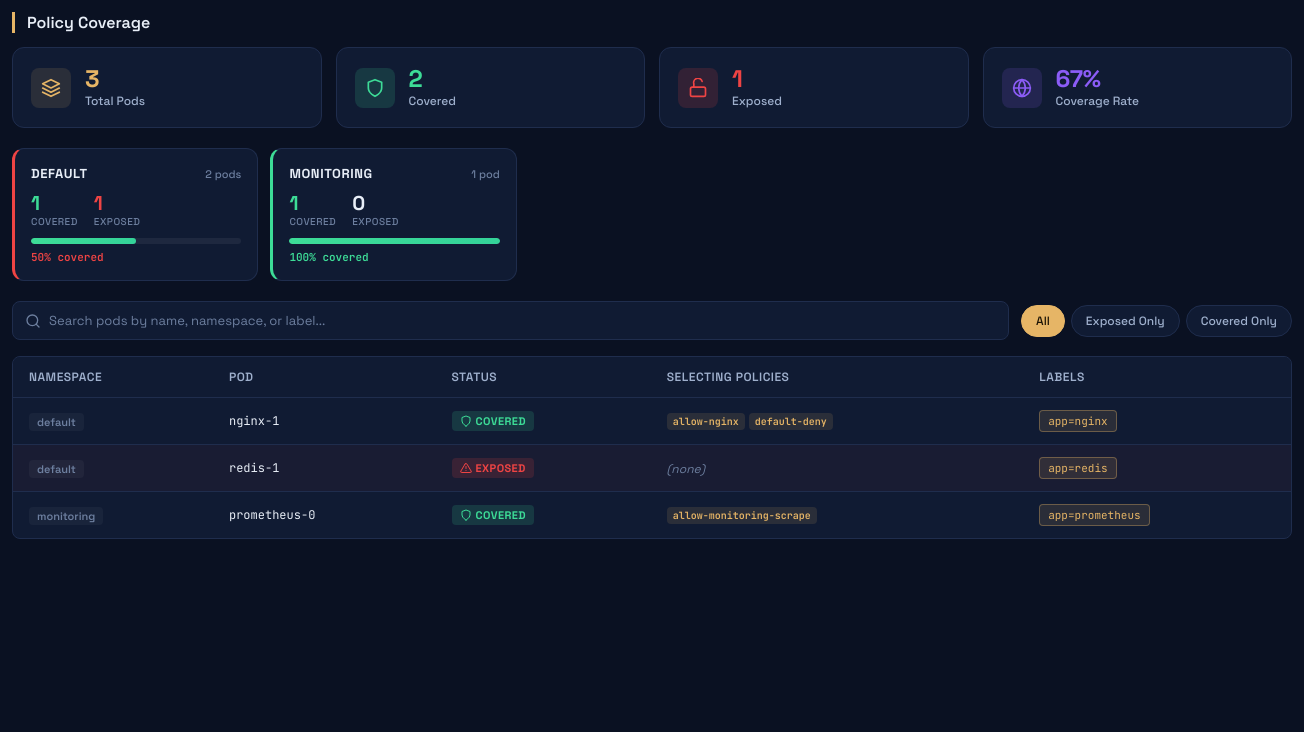
Test: PolicyCoveragePanel › filters to show covered pods only when chip clicked
This screenshot has width=1304, height=732.
Click the button "Covered Only" at {"x": 1239, "y": 321}, box [1186,305,1292,337]
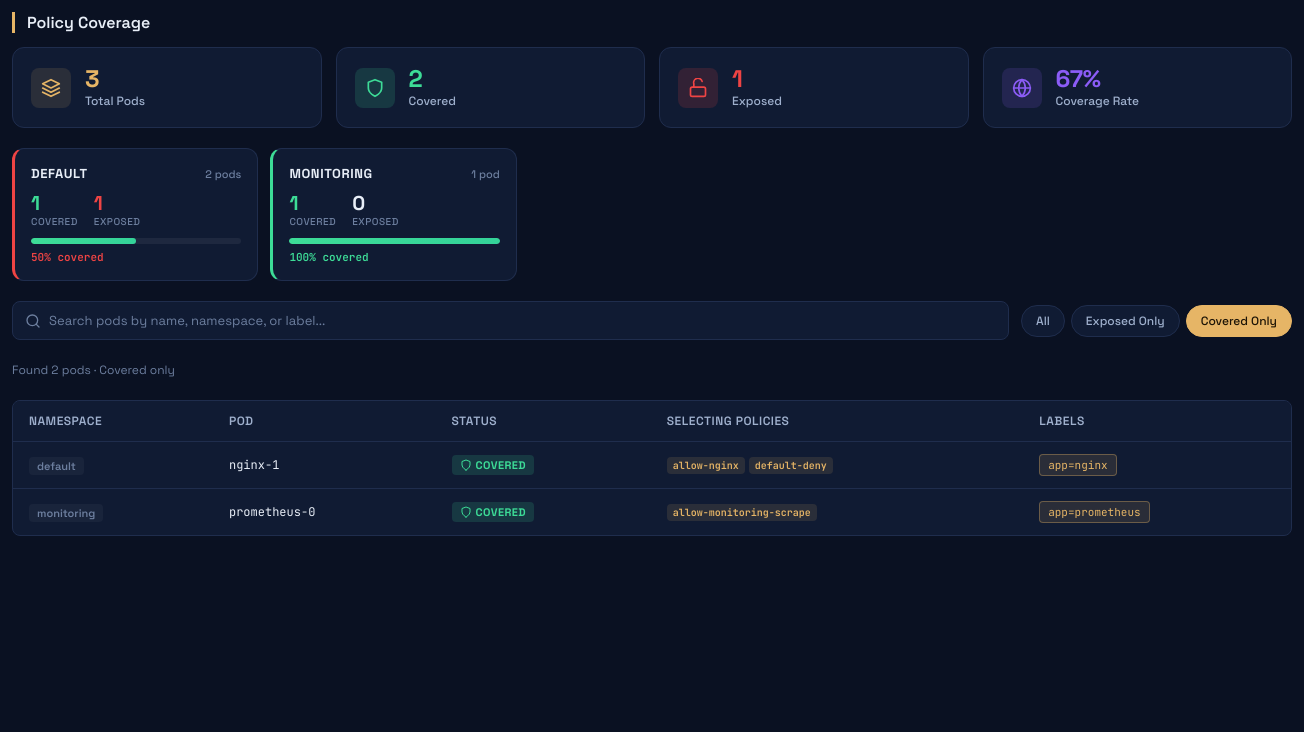
Now the text "redis-1" is gone
